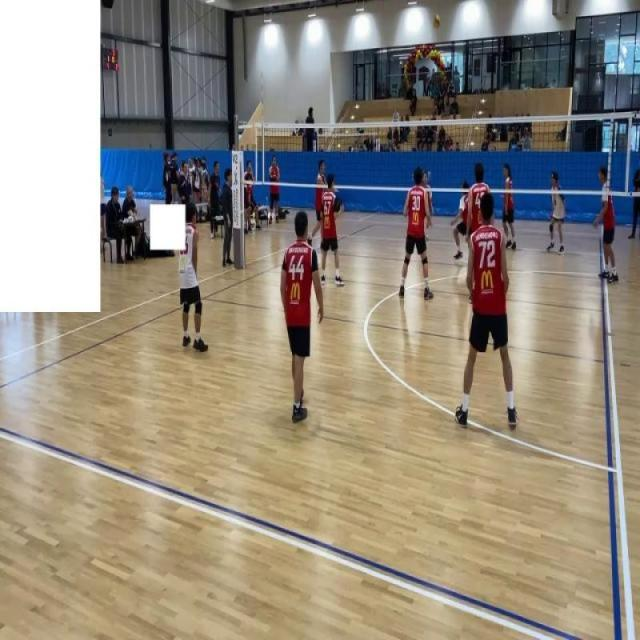volleyball: (431, 12, 441, 30), (398, 58, 404, 69)
